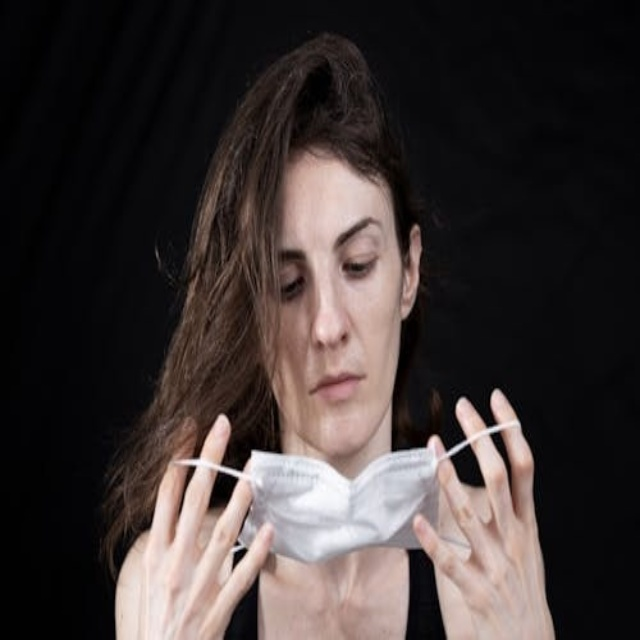Sin_gafas: (265, 206, 397, 313)
Sin_guantes: (409, 382, 558, 639), (147, 409, 275, 632)
Sin_mascara: (291, 359, 379, 438)
